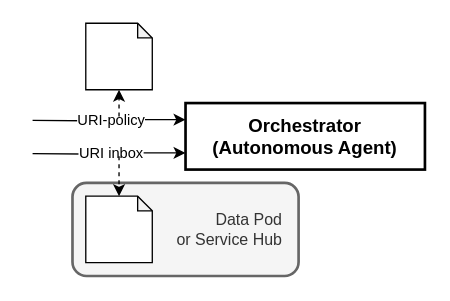
This 450x301 diagram has some shape labels left out. Each missing label, with the box of its shape:
Business Rules: (84, 22, 152, 90)
Inbox: (84, 195, 152, 263)
